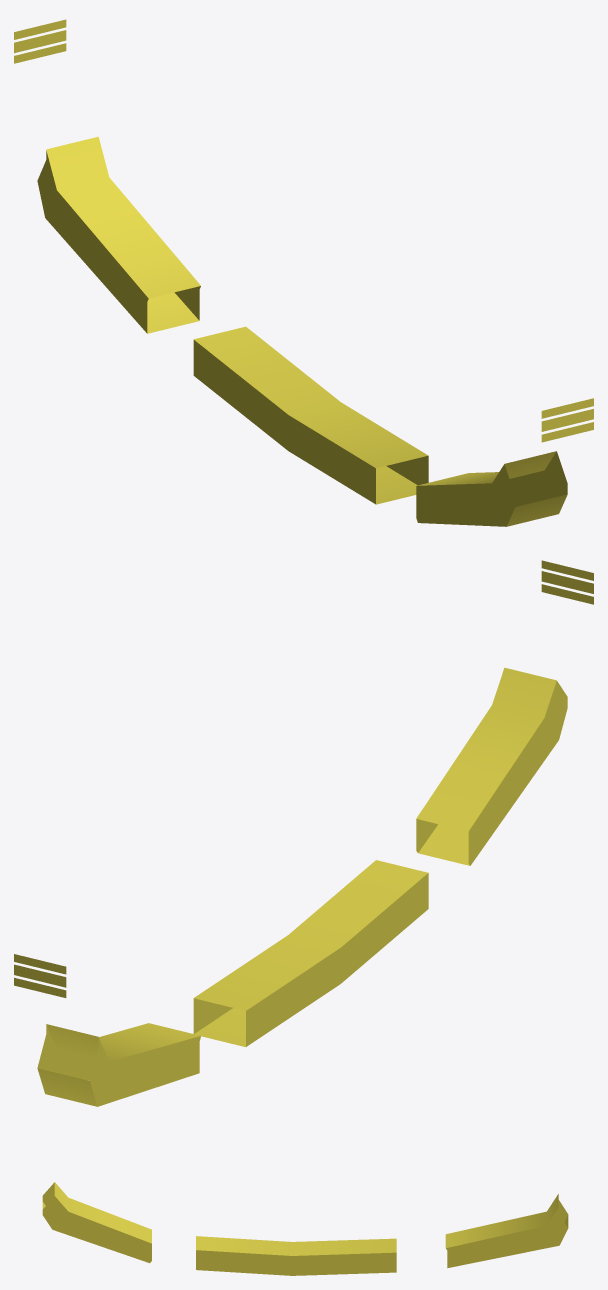
File: Weapon_Shoot_L3.FBX
3 renders of one model, top to bottom at view 1: azimuth 30°, elevation 25°; view 2: azimuth 150°, elevation 25°; view 3: azimuth 270°, elevation 25°, orthographic. The views are drawn at different scales.
Visible parts, largest first — view 1: Box001; view 2: Box001; view 3: Box001.
Boxes of the visible parts, <box> form: Box001: <box>14,19,593,526</box>; Box001: <box>14,560,593,1106</box>; Box001: <box>42,1182,568,1275</box>.
Bounding box in the file's own units: 2.55 × 10.71 × 44.38.
Materials: 1 (1 with a texture image).
